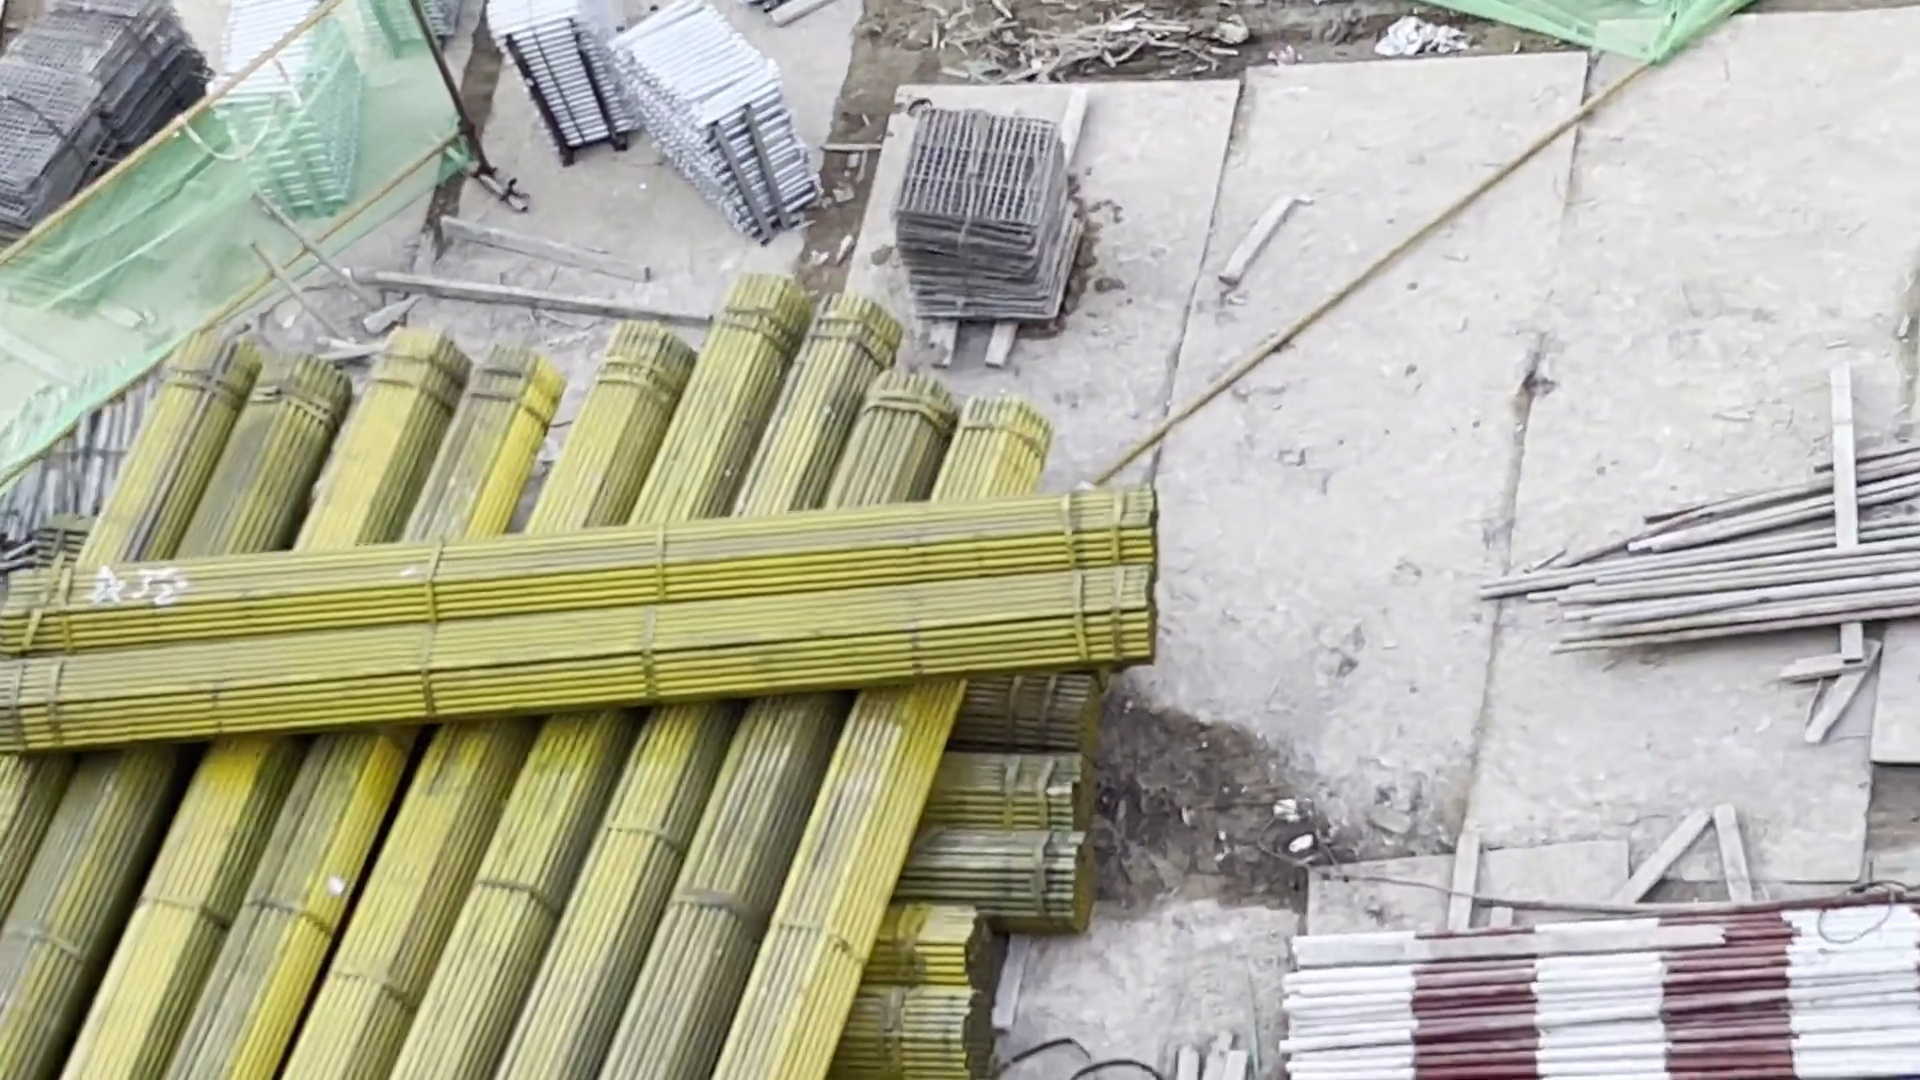scaffold: (604, 5, 829, 229), (214, 1, 371, 218), (488, 1, 645, 167)
